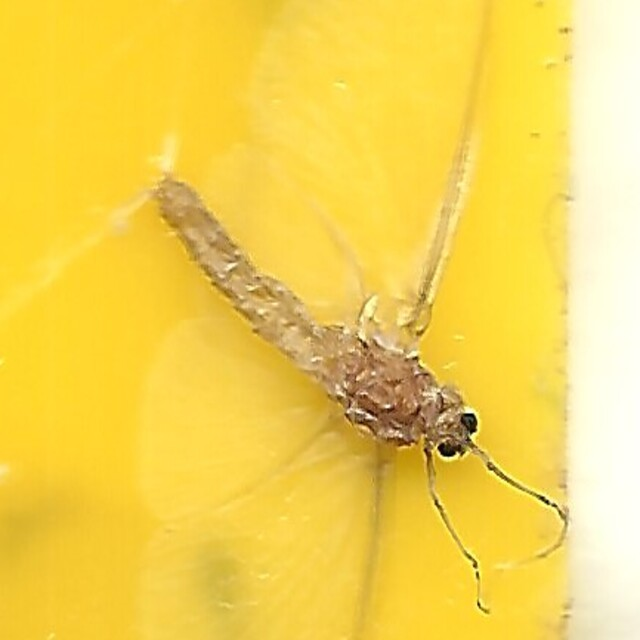Ephemeroptera: (148, 173, 492, 467)
